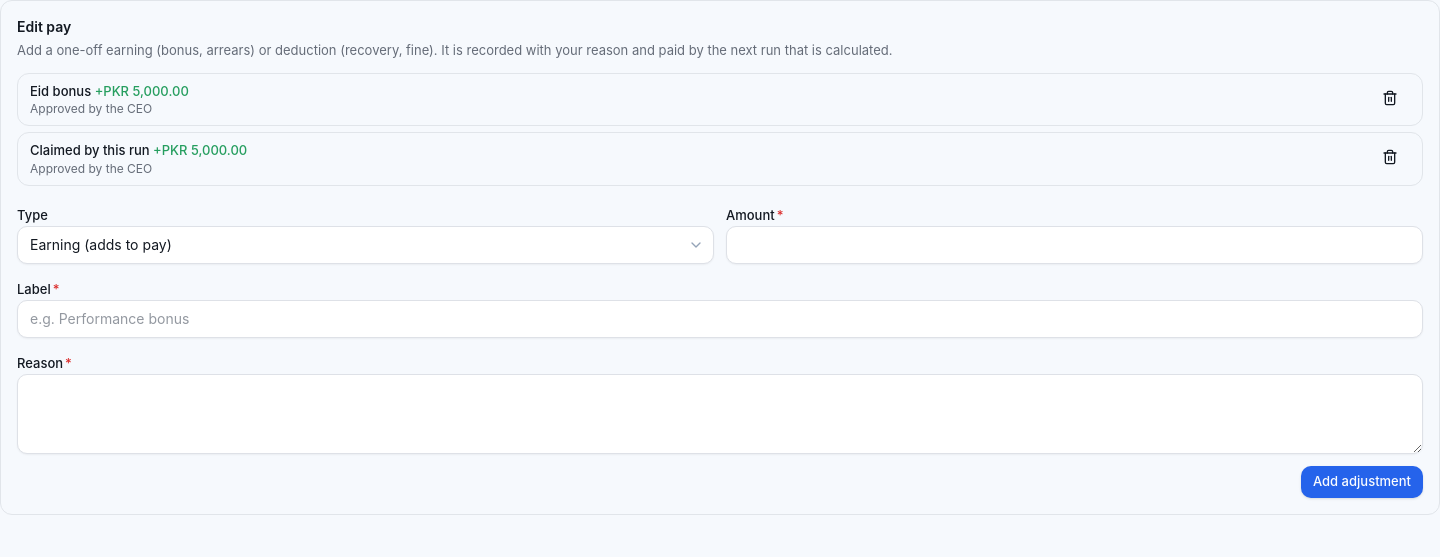
AdjustmentEditor › refuses an adjustment without a reason
Type "2500" into the number field labelled "Amount*".
click(1074, 244); type("2500")  # box [726,226,1423,264]
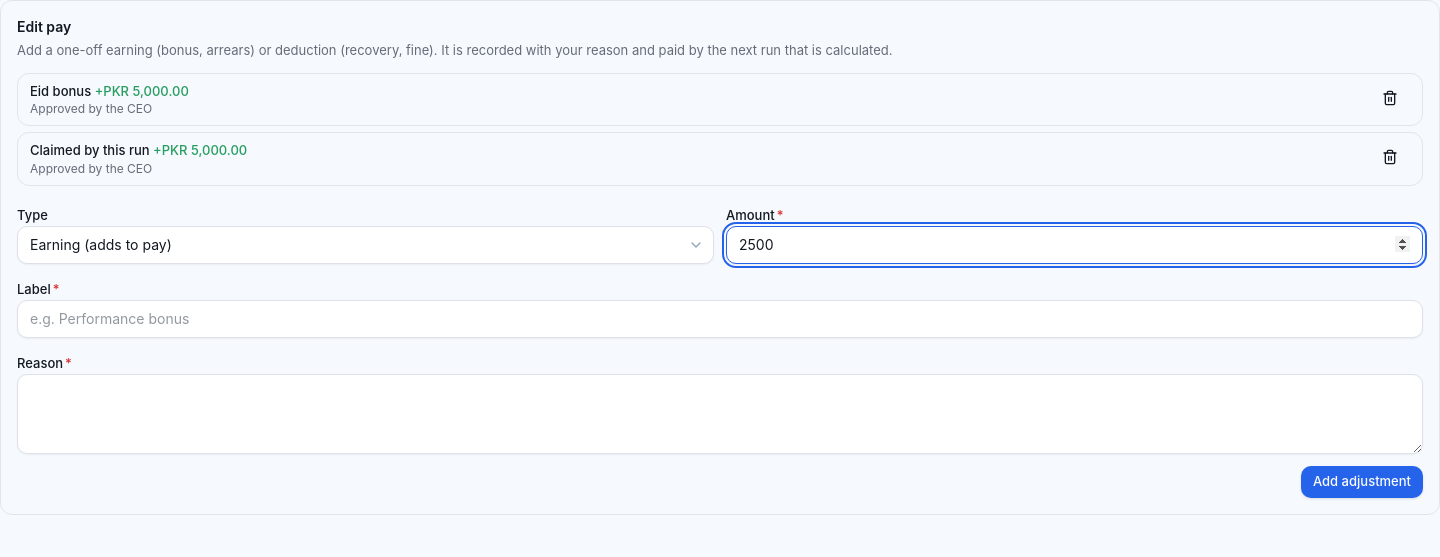
Type "Fine" into the field labelled "Label*".
click(720, 318); type("Fine")  # box [17,300,1423,338]
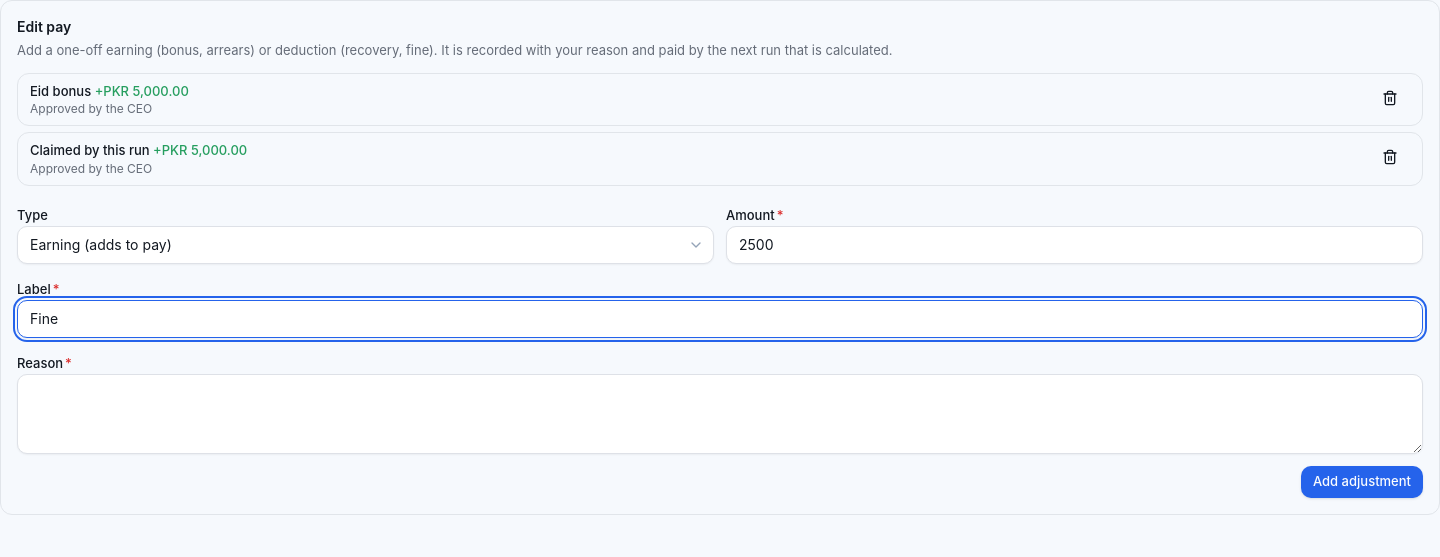
Click the button "Add adjustment".
click(1362, 482)  # box [1301,466,1423,498]
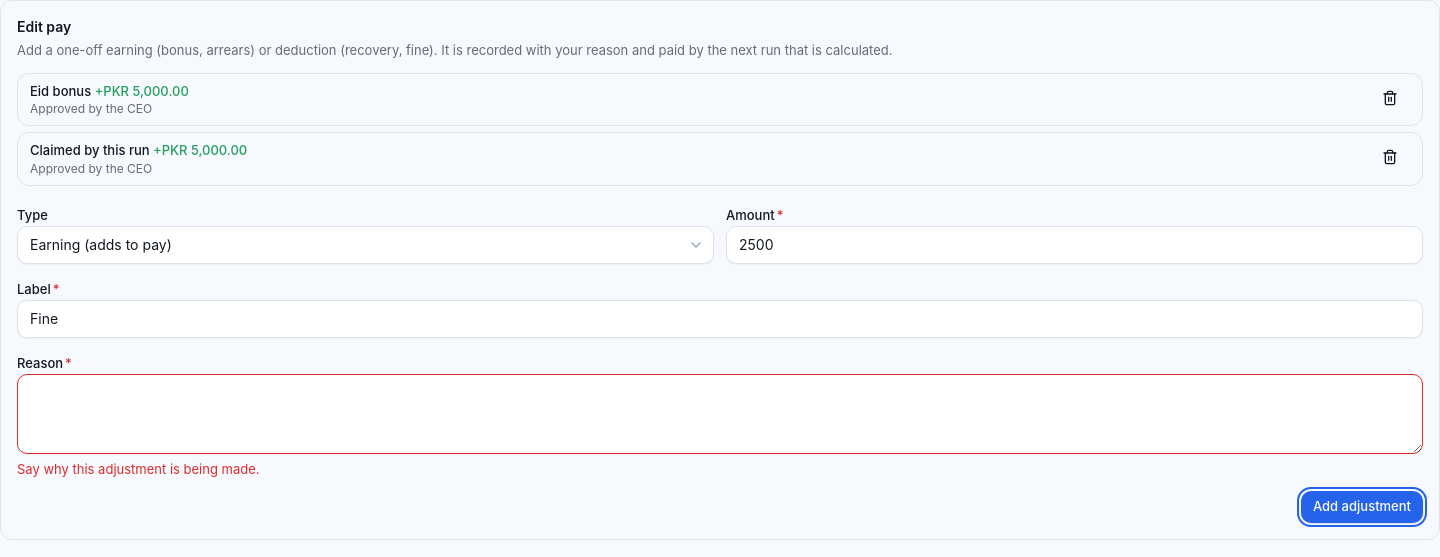
Result: the text "Say why this adjustment is being made." is shown at [17,460,260,476]
